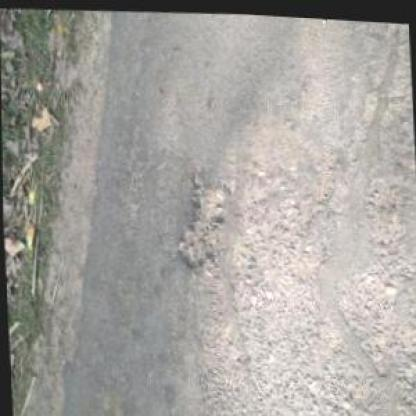pothole: (171, 172, 228, 270)
